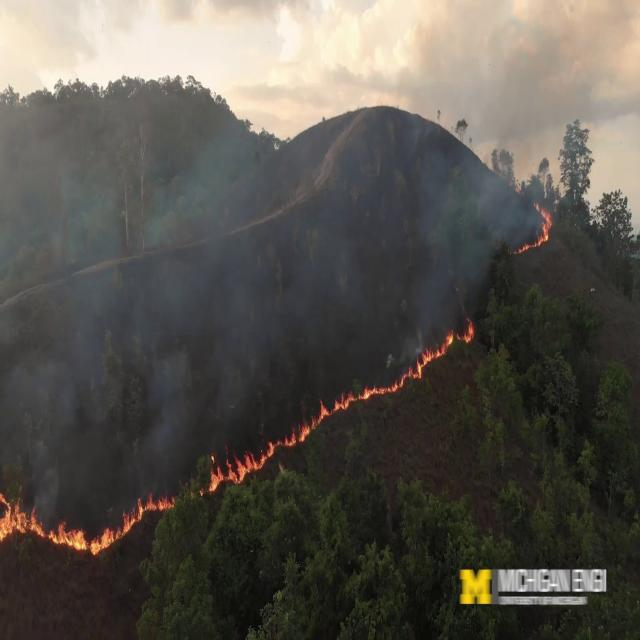fire: (4, 496, 117, 584), (272, 387, 334, 461), (342, 360, 425, 409), (208, 446, 272, 499), (421, 320, 484, 370), (527, 190, 569, 263)
